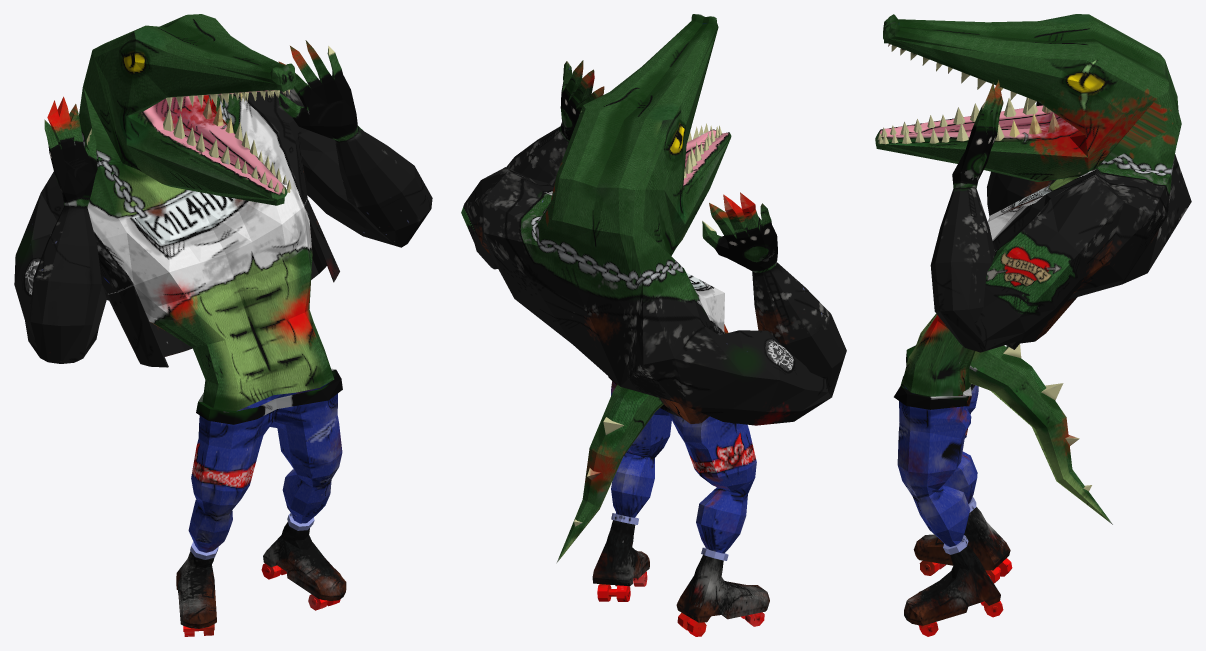
Rendered from cocodrilaBonesSelect_000014.obj.
3 renders of one model, left to right at view 1: azimuth 30°, elevation 25°; view 2: azimuth 150°, elevation 25°; view 3: azimuth 270°, elevation 25°, orthographic. The views are drawn at different scales.
Parts seen in each view (by area): view 1: Crocodile.002_Cylinder.002; view 2: Crocodile.002_Cylinder.002; view 3: Crocodile.002_Cylinder.002.
Part boxes in pixels (box(x1,y1,x2,y2)): Crocodile.002_Cylinder.002: box(14, 14, 432, 636); Crocodile.002_Cylinder.002: box(461, 14, 846, 636); Crocodile.002_Cylinder.002: box(875, 14, 1191, 636).
Bounding box in the file's own units: 4.53 × 6.59 × 3.23.
